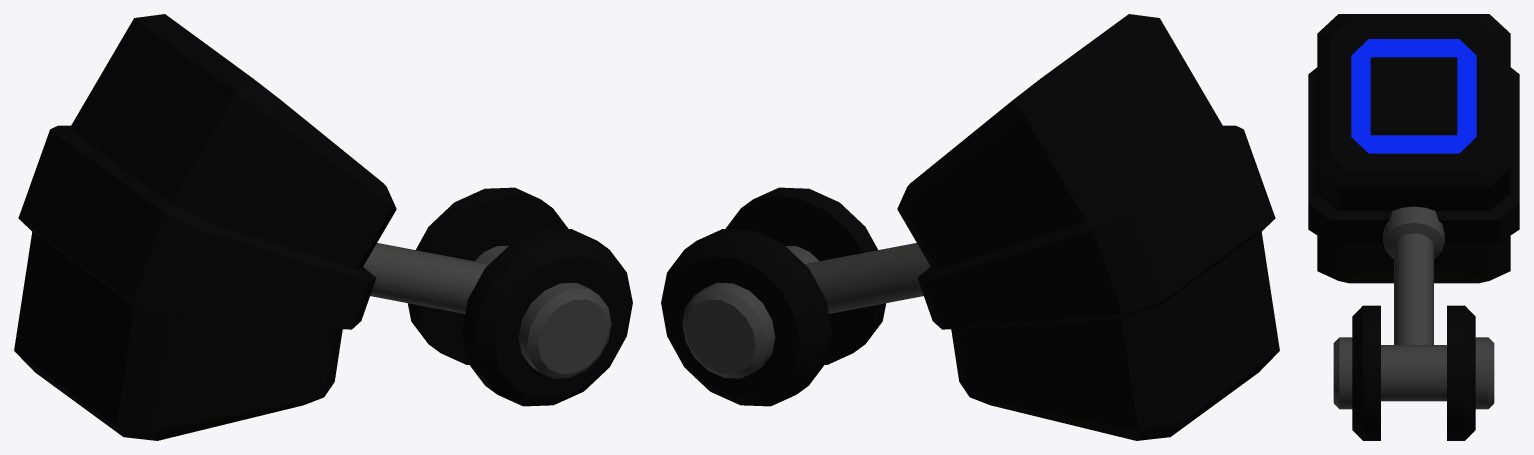
Rendered from Attachment_Big Hammer.fbx.
3 renders of one model, left to right at view 1: azimuth 30°, elevation 25°; view 2: azimuth 150°, elevation 25°; view 3: azimuth 270°, elevation 25°, orthographic. The views are drawn at different scales.
Parts seen in each view (by area): view 1: Attachment_Big Hammer; view 2: Attachment_Big Hammer; view 3: Attachment_Big Hammer.
Boxes of the visible parts, box(x1,y1,x2,y2) form: Attachment_Big Hammer: box(14, 14, 632, 440); Attachment_Big Hammer: box(661, 14, 1279, 440); Attachment_Big Hammer: box(1308, 14, 1519, 440).
Size of the model in its own units: 1.79 by 1.31 by 0.8317.
